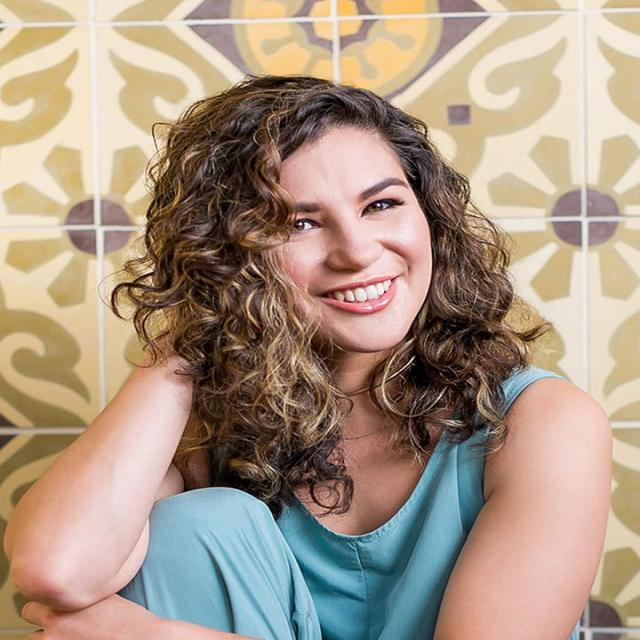mobile_phonerotation: (4, 72, 615, 638)
